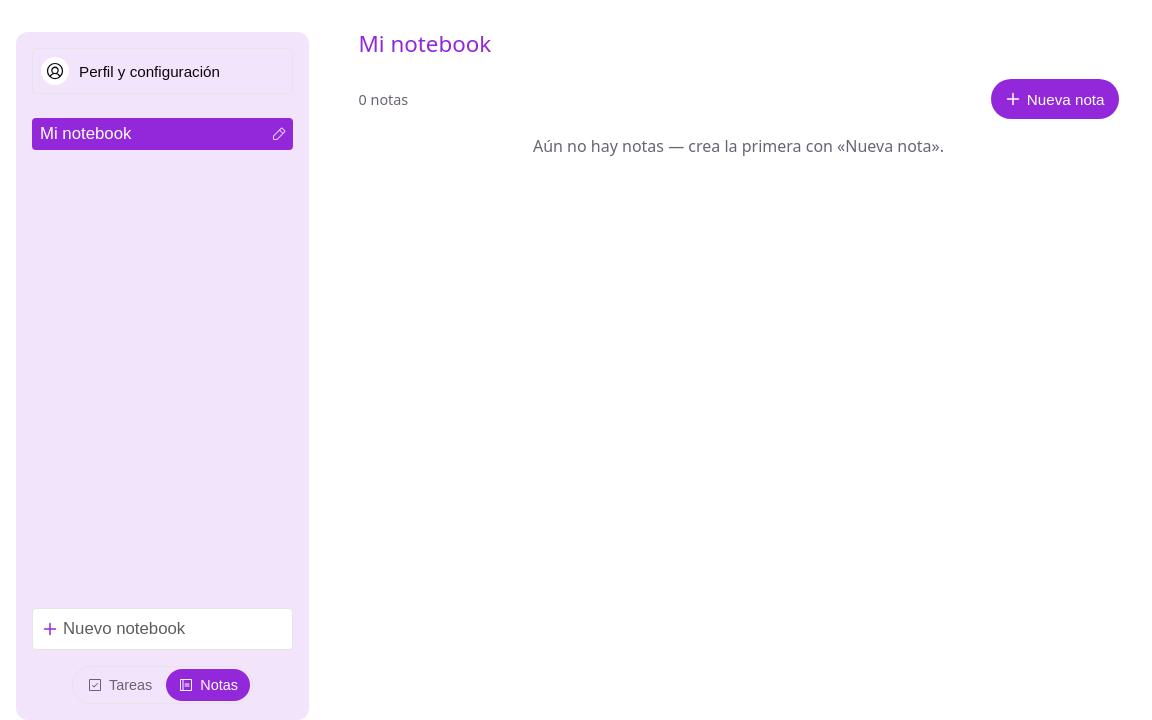
Notes › creates a second notebook and keeps notes scoped per notebook
This screenshot has width=1152, height=720.
Step 1. Click the button "Nueva nota" → (1055, 99), box x1=991 y1=79 x2=1118 y2=119
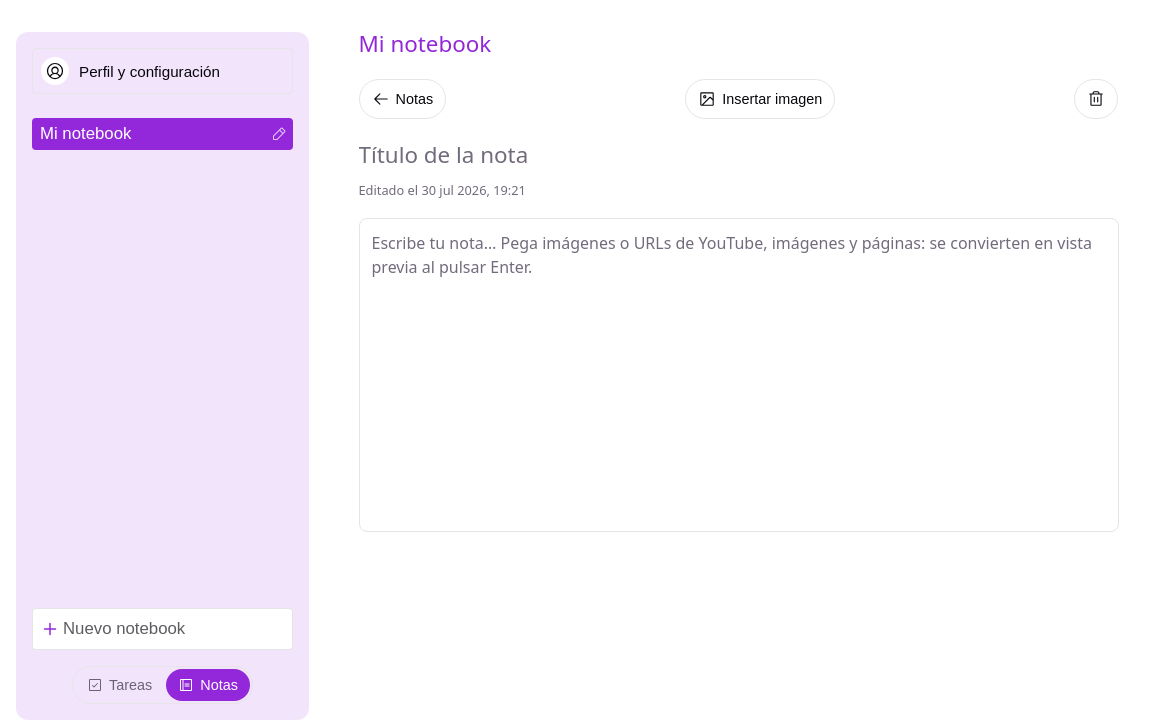
Step 2. Type "Nota personal" into the field labelled "Título de la nota" → (738, 155), box x1=358 y1=135 x2=1118 y2=175
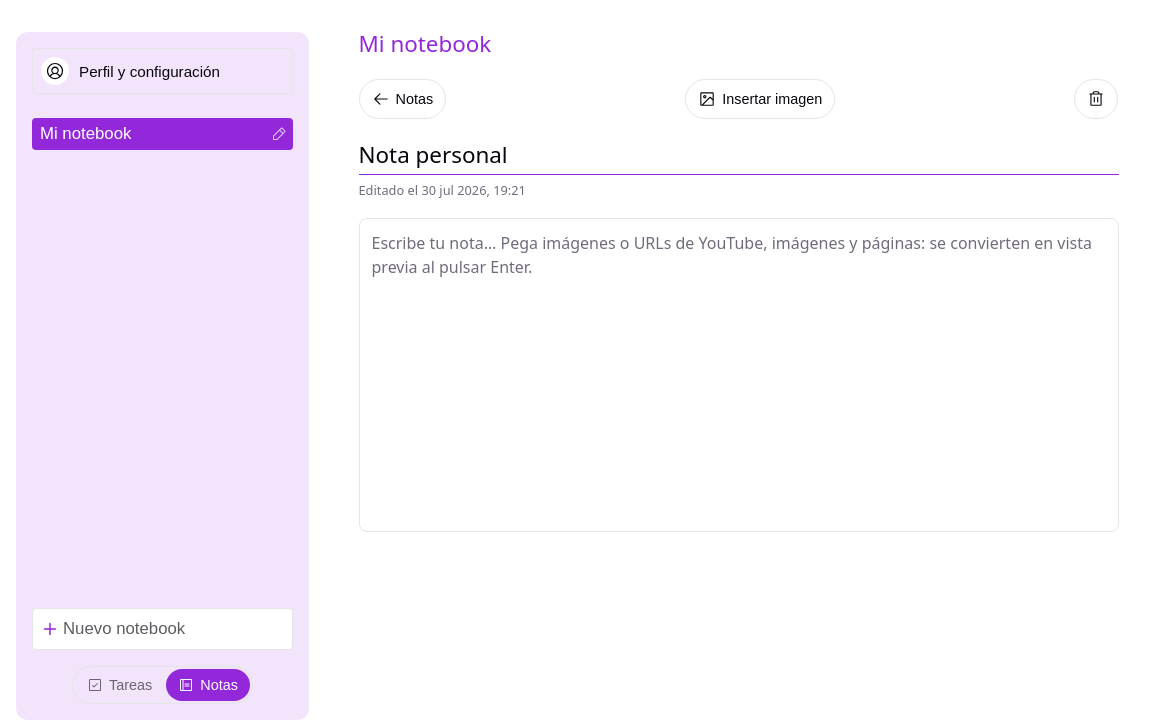
Step 3. Click the button with aria-label "volver a las notas" → (402, 99), box x1=358 y1=79 x2=446 y2=119
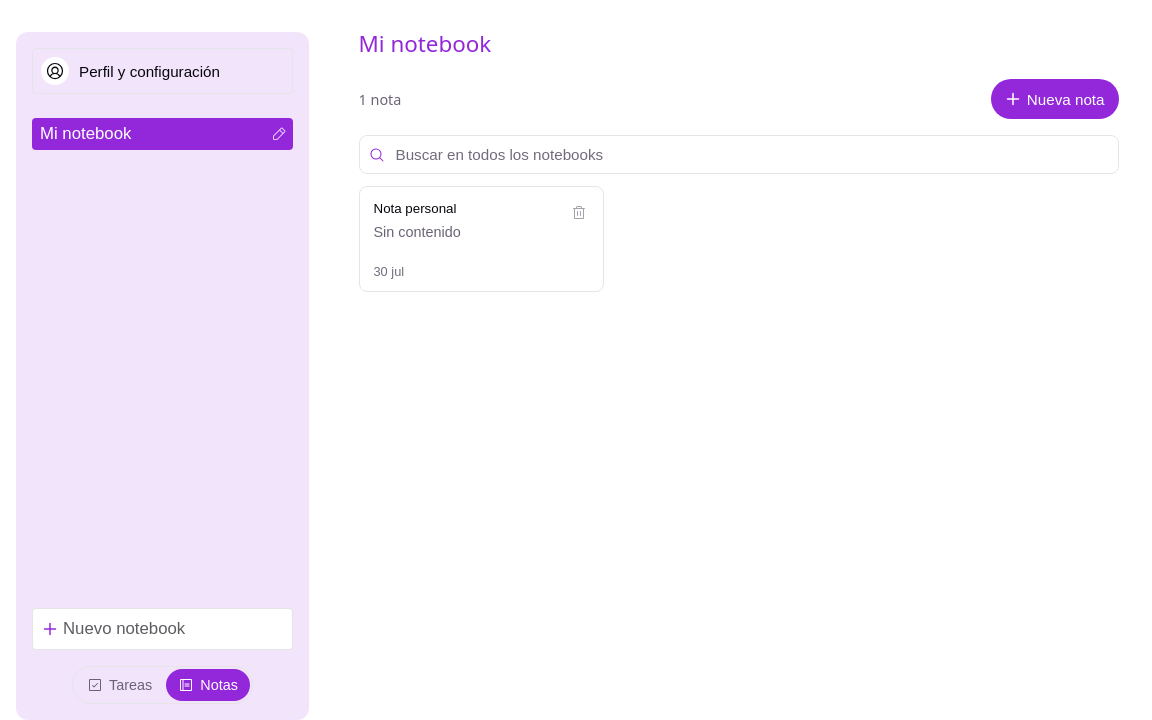
Step 4. Type "Trabajo" into the field named "nombre del nuevo notebook" → (162, 629), box x1=32 y1=608 x2=293 y2=650
Then press Enter
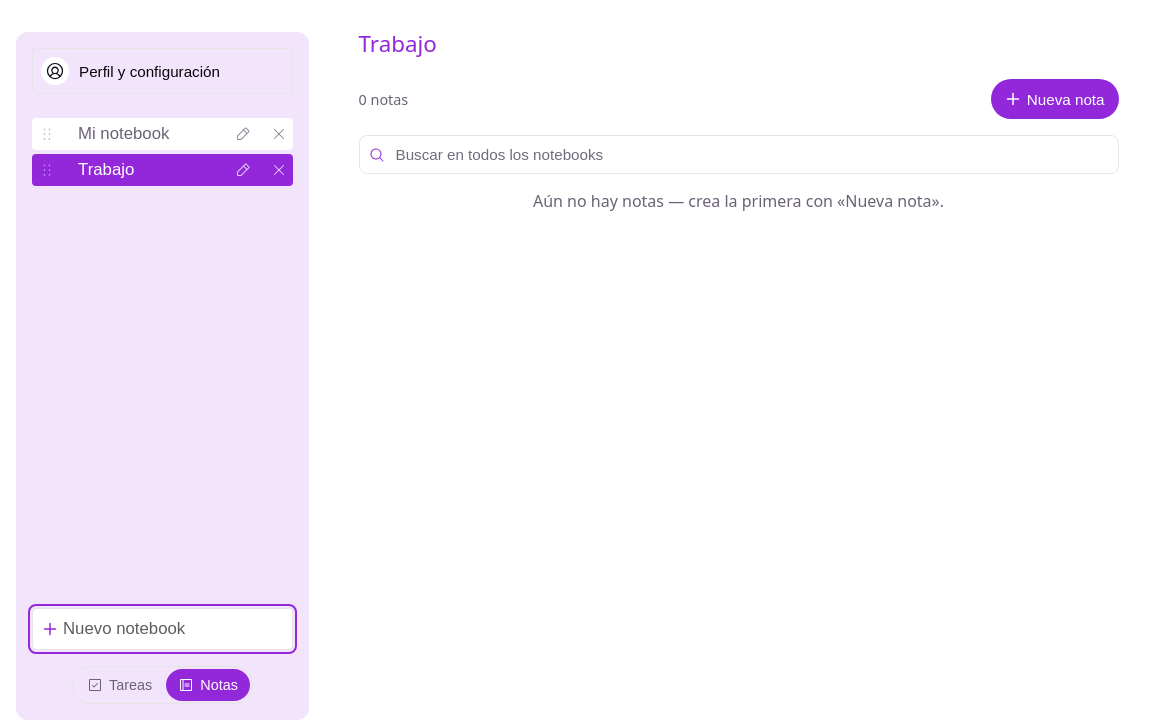
Expected: the heading "Trabajo" is shown, x1=358 y1=32 x2=437 y2=55
Expected: the button "Nota personal" is gone
Step 5. Click the button "Mi notebook" → (146, 134), box x1=70 y1=118 x2=221 y2=150
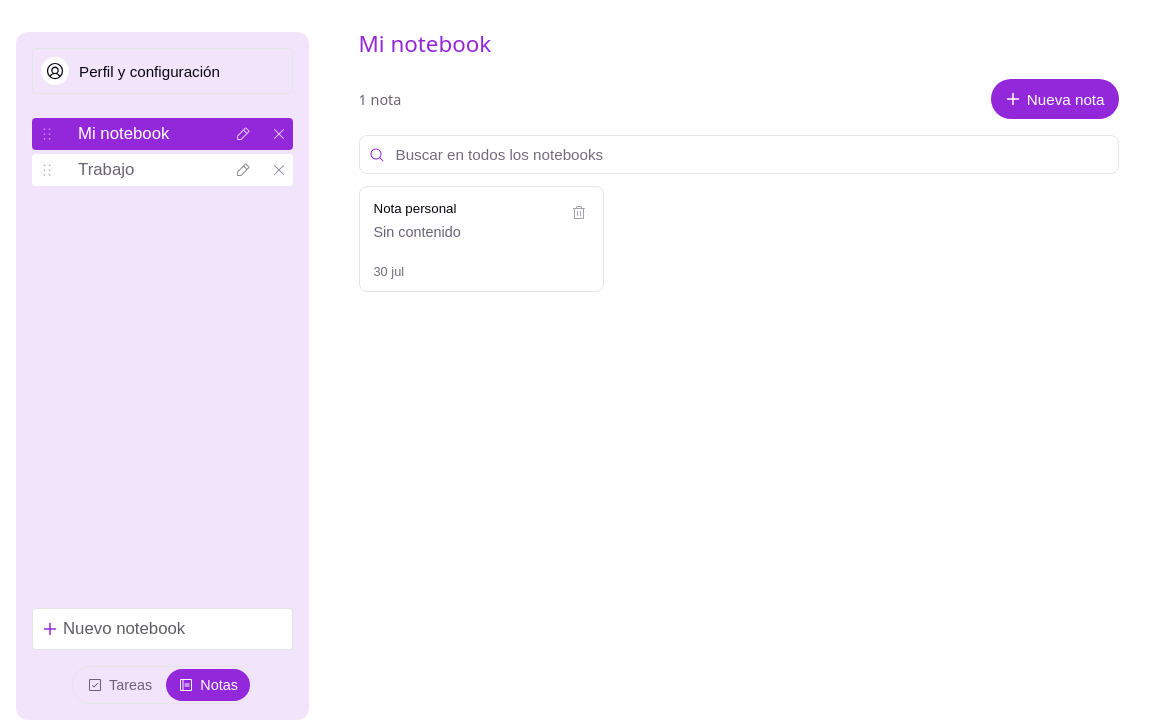
Expected: the text "Nota personal" is shown, x1=374 y1=201 x2=456 y2=216
